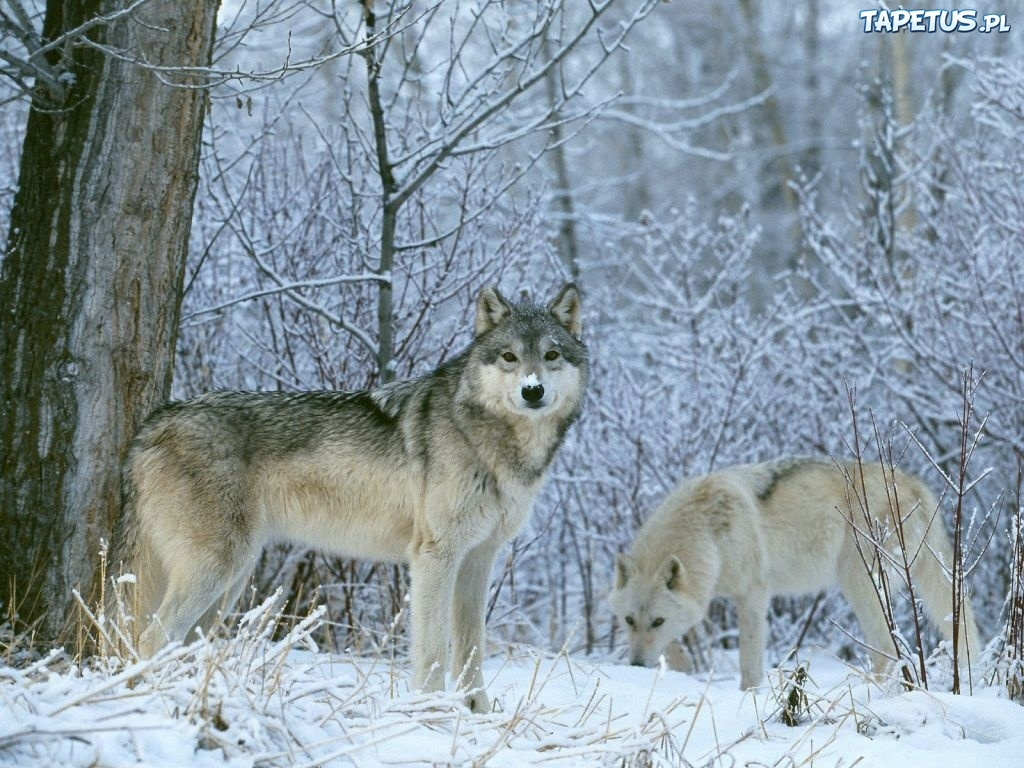wolf: (114, 267, 621, 715), (598, 441, 993, 715)
